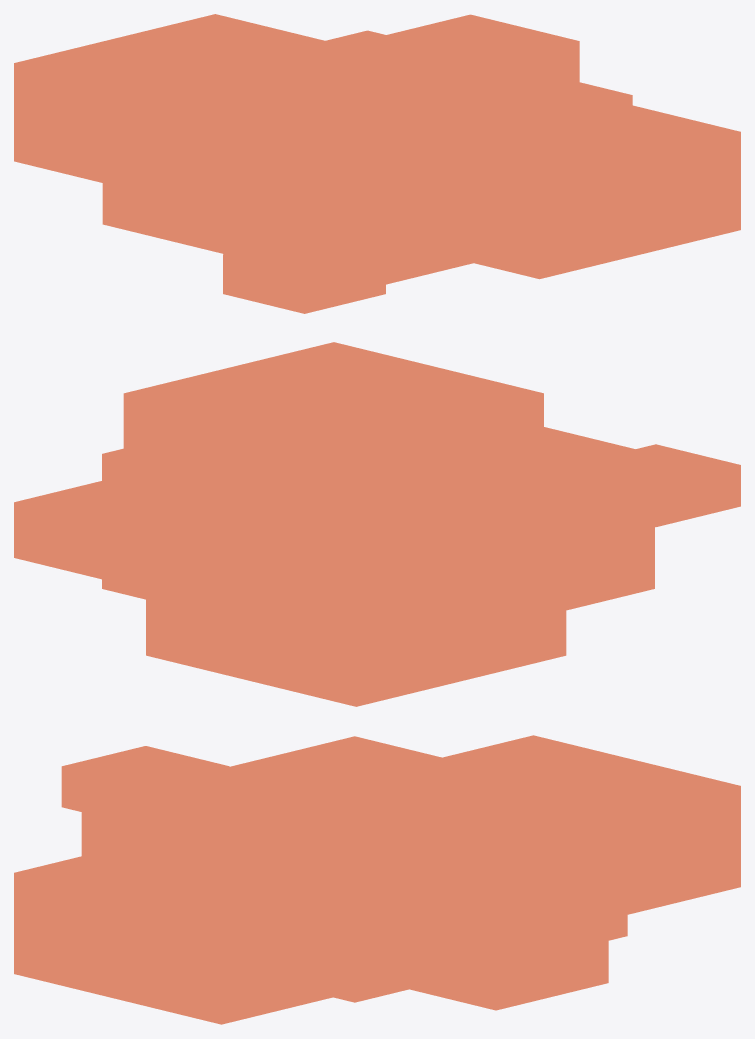
The model's file is Lava.fbx.
The picture shows the model from 3 angles, top to bottom: view 1: azimuth 30°, elevation 25°; view 2: azimuth 150°, elevation 25°; view 3: azimuth 270°, elevation 25°; orthographic projection. The views are drawn at different scales.
Visible parts, largest first — view 1: rock; view 2: rock; view 3: rock.
Part boxes in pixels (left/top/right/bottom): rock: left=14, top=14, right=740, bottom=313; rock: left=14, top=342, right=740, bottom=706; rock: left=14, top=735, right=740, bottom=1024.
Bounding box in the file's own units: 32.16 × 1.15e-05 × 34.15.
